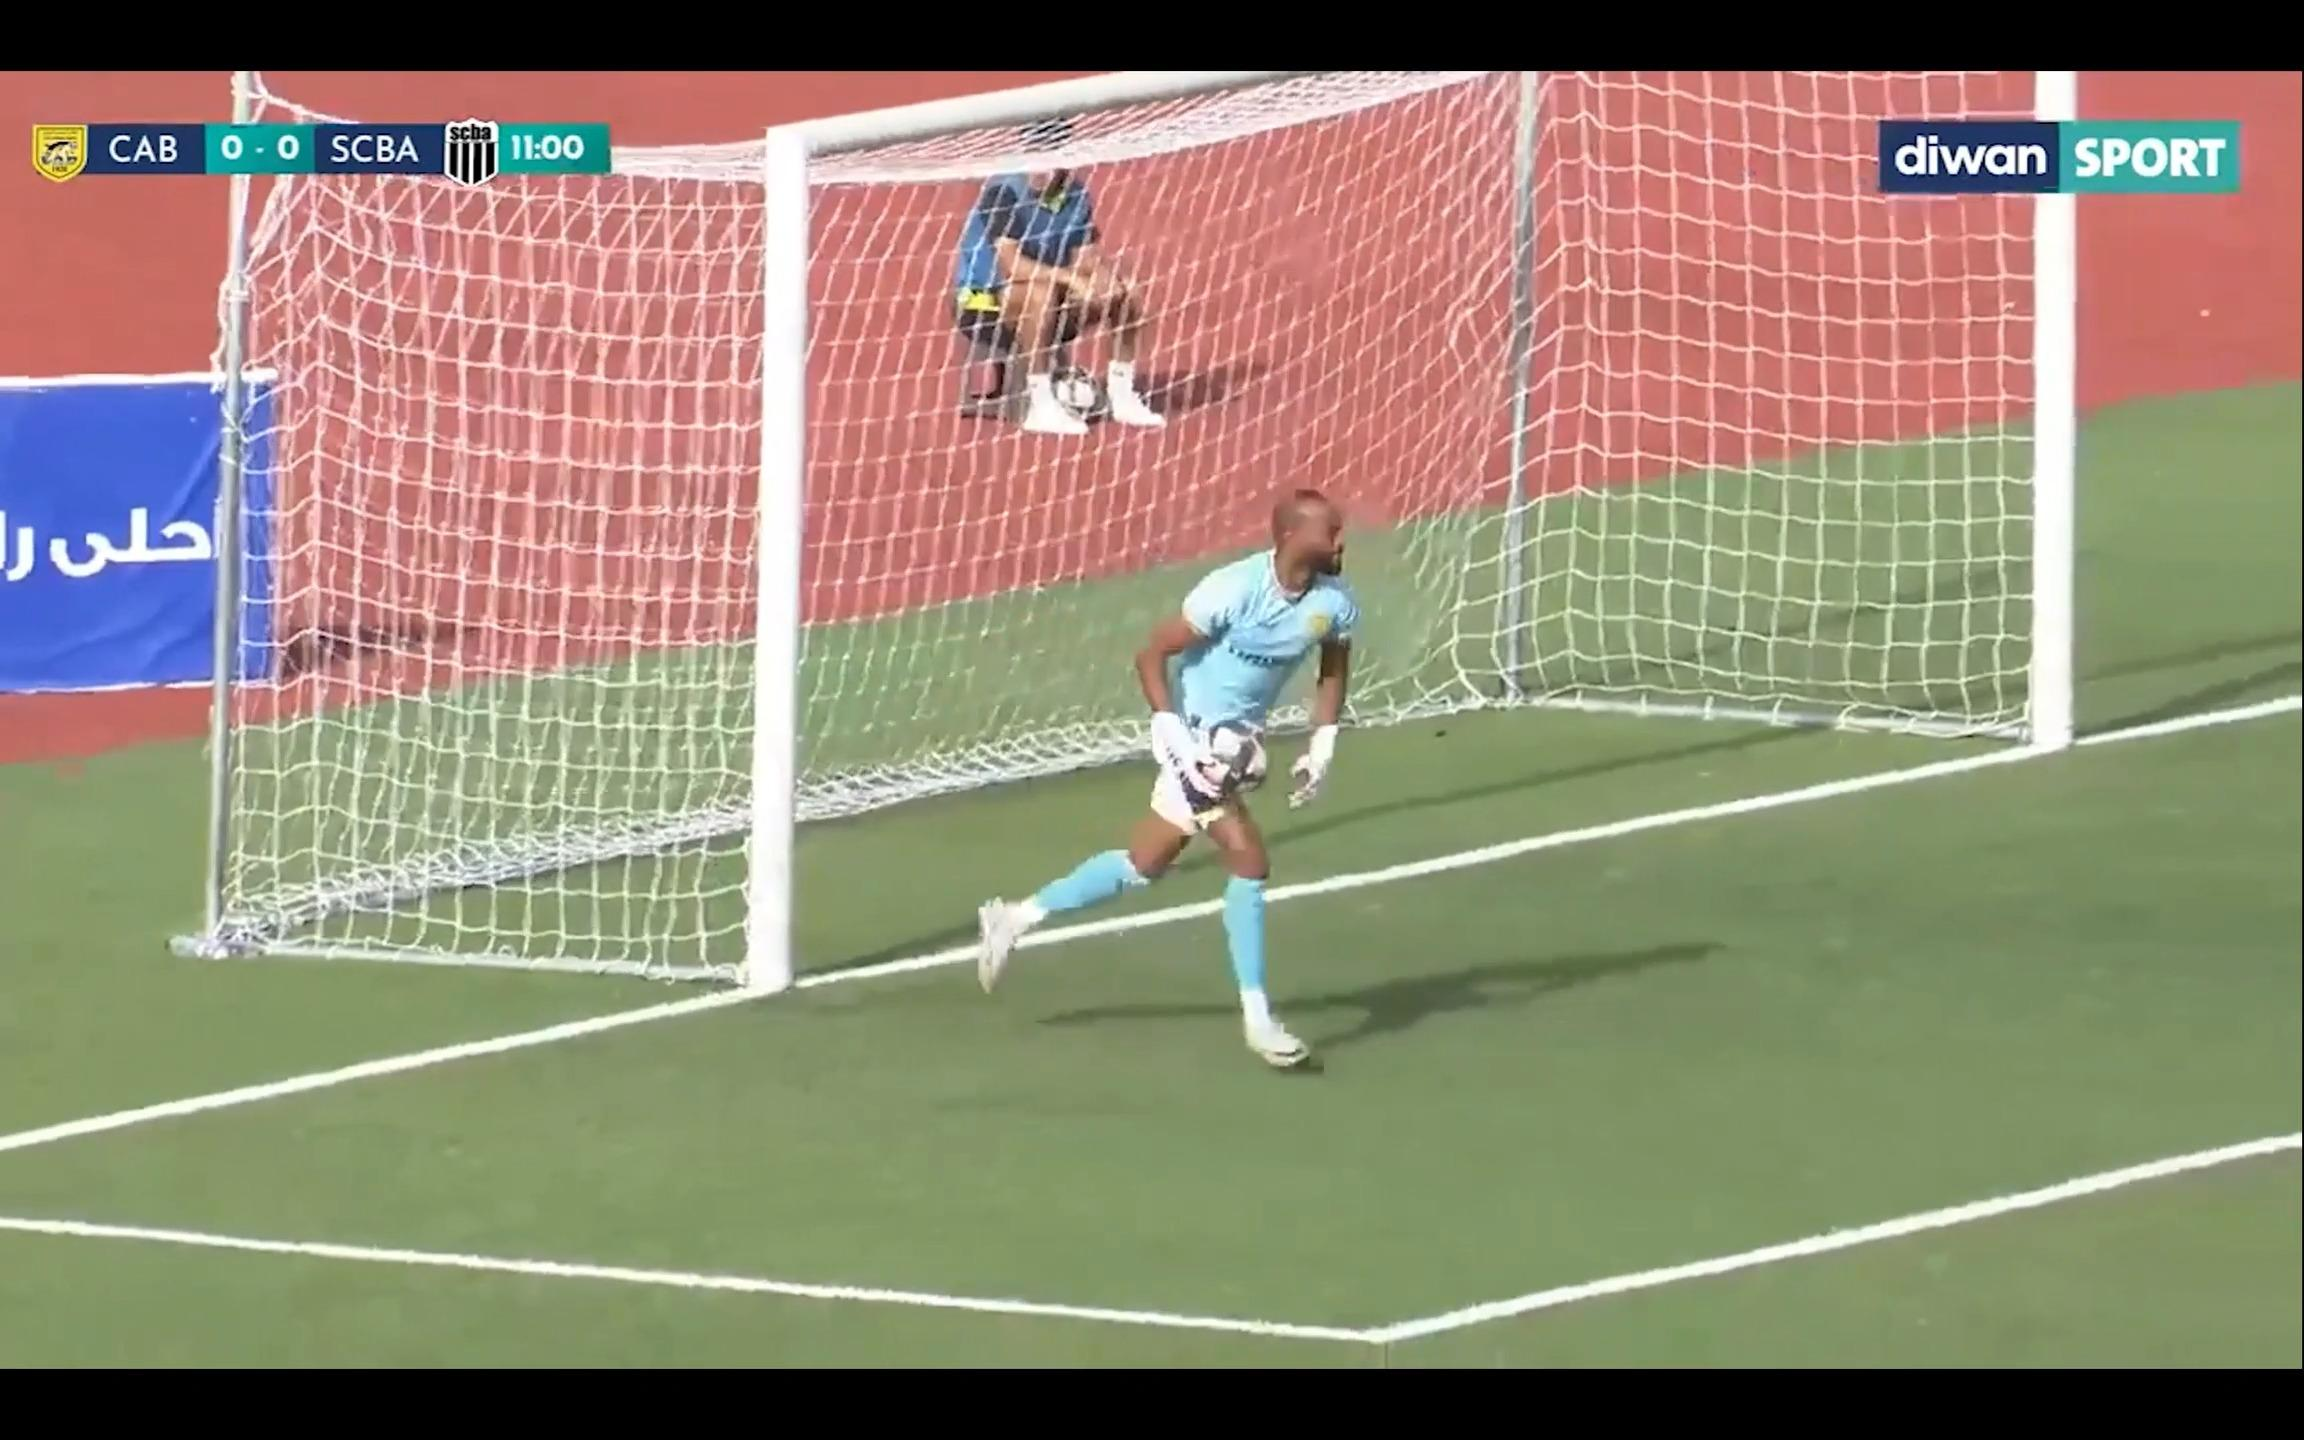ball: (1193, 708, 1276, 790)
goalkeeper: (970, 471, 1400, 1120)
